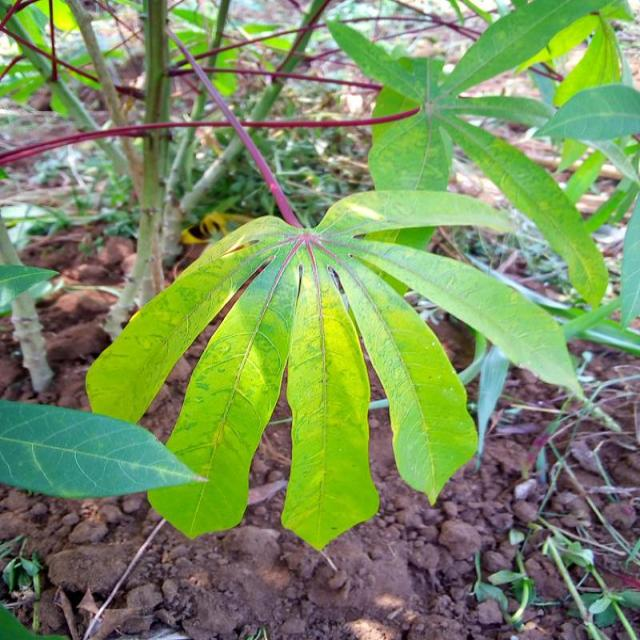cassava leaf: (84, 189, 583, 551), (0, 396, 209, 500)
